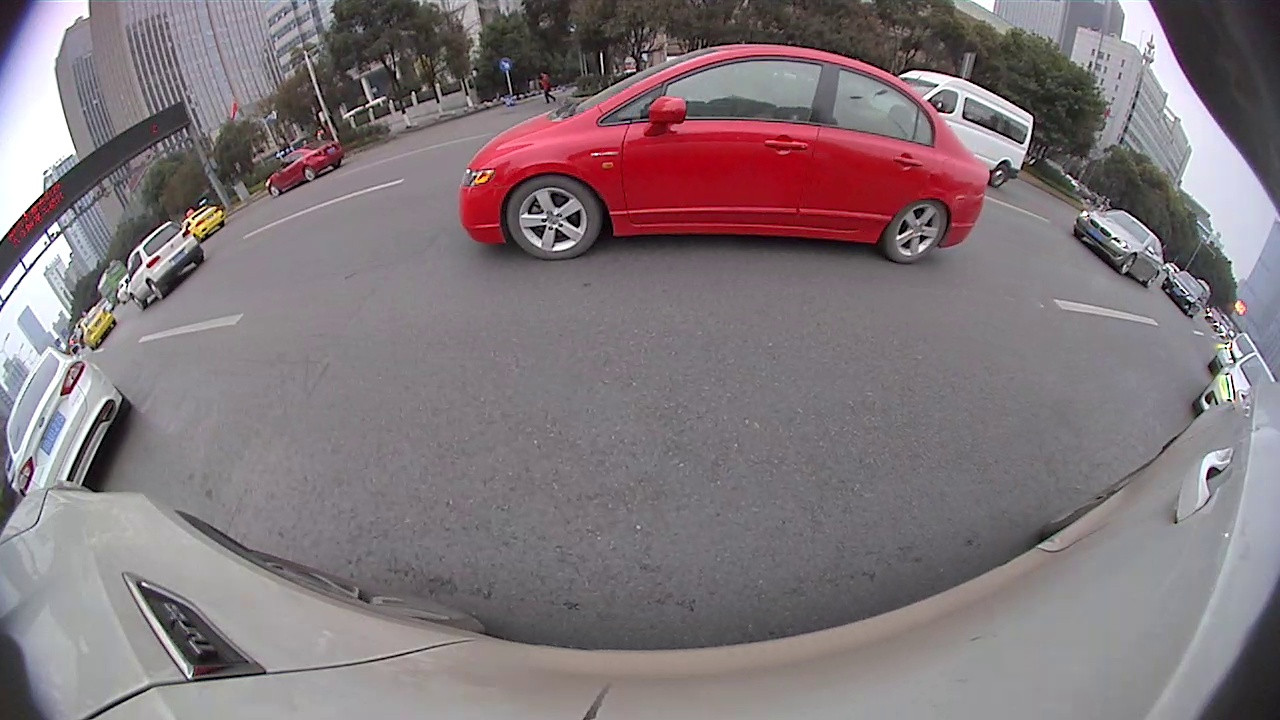car: (458, 49, 984, 263), (8, 351, 130, 497), (886, 71, 1033, 185), (1068, 210, 1161, 292), (128, 223, 204, 308), (1198, 353, 1278, 413), (265, 143, 343, 198), (80, 308, 117, 346), (187, 203, 223, 240)
front: (507, 173, 601, 261), (1118, 253, 1139, 274), (268, 183, 281, 196)
rear: (882, 201, 948, 266), (990, 166, 1012, 187), (147, 278, 165, 302), (303, 164, 318, 183)
